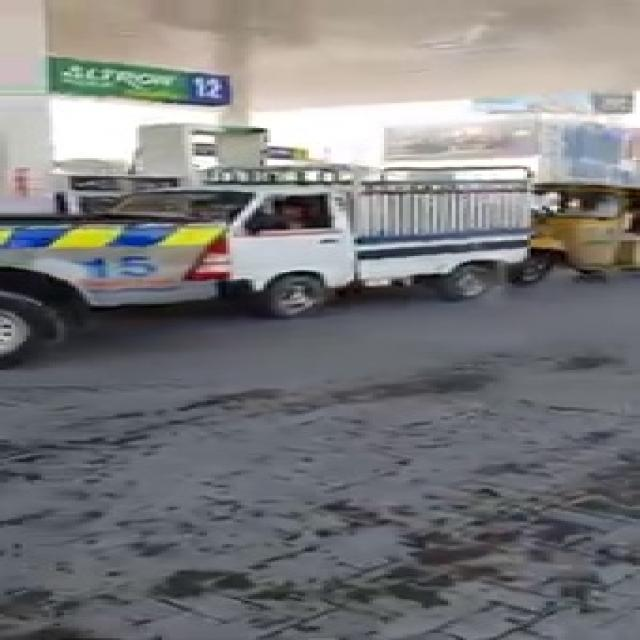police: (0, 196, 243, 333)
